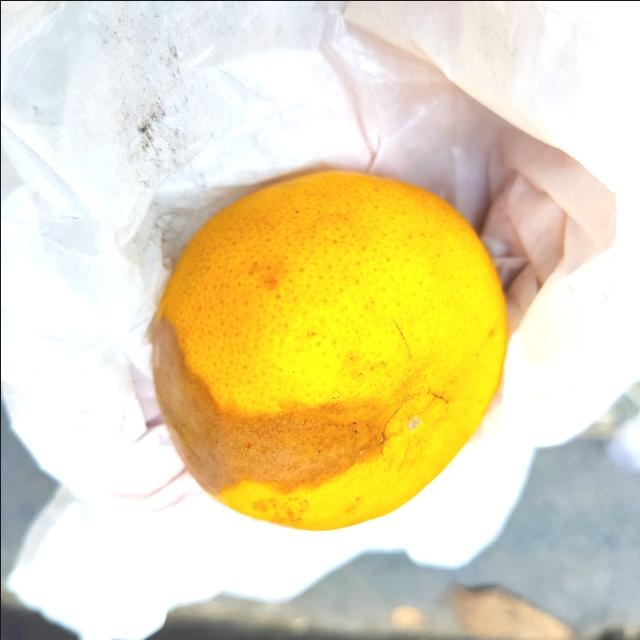agrume: (149, 171, 512, 529)
